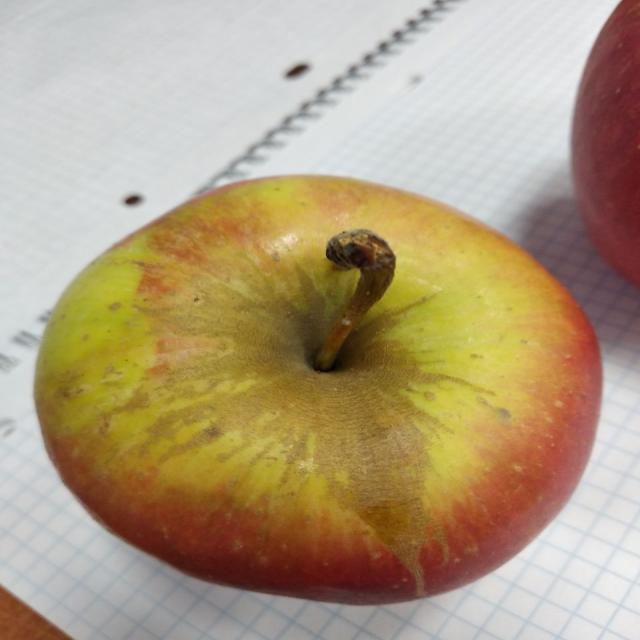Fresh Apple: (38, 200, 620, 580)
